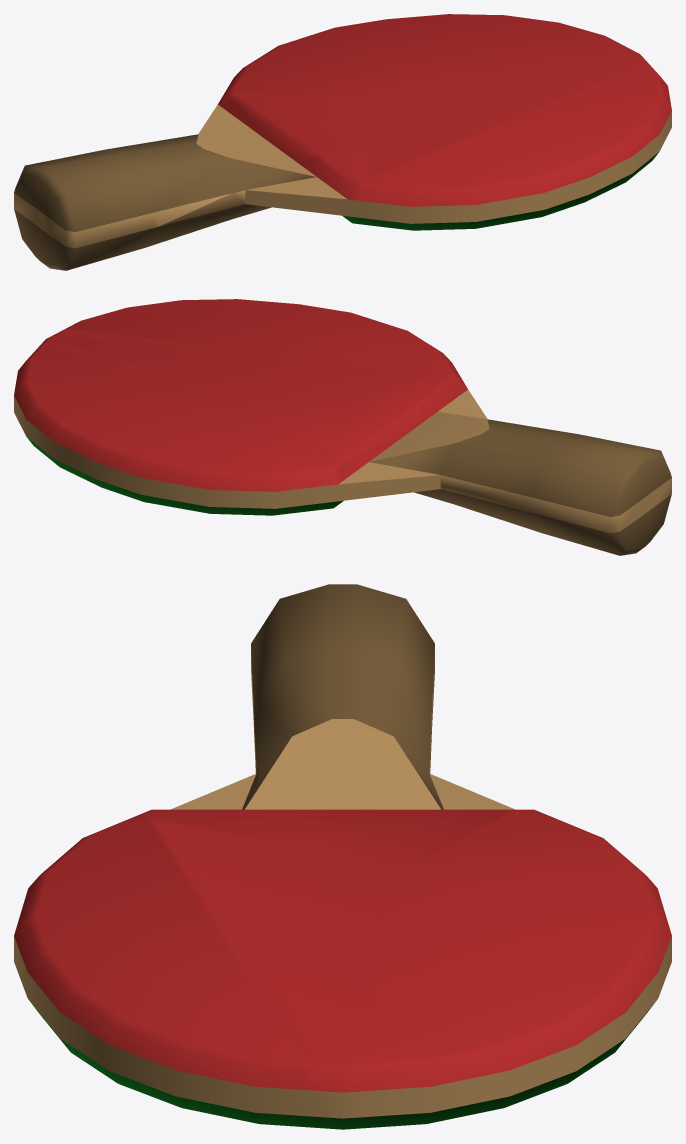
Rendered from Entity_PingPongPaddle-bkn.FBX.
The picture shows the model from 3 angles, top to bottom: view 1: azimuth 30°, elevation 25°; view 2: azimuth 150°, elevation 25°; view 3: azimuth 270°, elevation 25°; orthographic projection. The views are drawn at different scales.
Visible parts, largest first — view 1: PingpongPaddle_Part_1, PingpongPaddle_Part_5, PingpongPaddle_Part_3, PingpongPaddle_Part_2, PingpongPaddle_Part_4; view 2: PingpongPaddle_Part_3, PingpongPaddle_Part_1, PingpongPaddle_Part_5, PingpongPaddle_Part_2, PingpongPaddle_Part_4; view 3: PingpongPaddle_Part_3, PingpongPaddle_Part_5, PingpongPaddle_Part_1, PingpongPaddle_Part_2, PingpongPaddle_Part_4.
Boxes of the visible parts, <box> form: PingpongPaddle_Part_1: <box>14,94,369,270</box>; PingpongPaddle_Part_5: <box>360,63,671,230</box>; PingpongPaddle_Part_3: <box>216,14,628,107</box>; PingpongPaddle_Part_2: <box>360,47,648,175</box>; PingpongPaddle_Part_4: <box>64,135,373,270</box>; PingpongPaddle_Part_3: <box>14,344,345,515</box>; PingpongPaddle_Part_1: <box>282,397,671,555</box>; PingpongPaddle_Part_5: <box>62,299,464,383</box>; PingpongPaddle_Part_2: <box>40,329,433,410</box>; PingpongPaddle_Part_4: <box>359,371,487,424</box>; PingpongPaddle_Part_3: <box>364,809,671,1128</box>; PingpongPaddle_Part_5: <box>14,814,326,1128</box>; PingpongPaddle_Part_1: <box>251,584,515,877</box>; PingpongPaddle_Part_2: <box>157,823,395,1129</box>; PingpongPaddle_Part_4: <box>139,733,293,845</box>.
Size of the model in its own units: 154 by 22.81 by 94.68.
